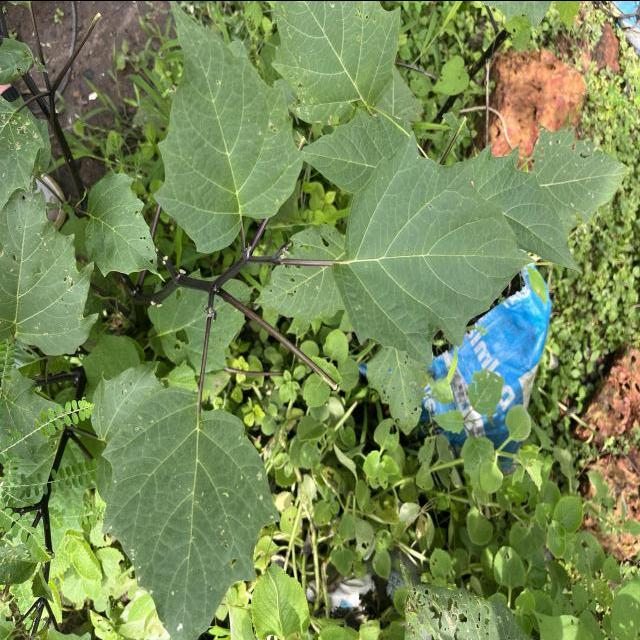Datura metal linn: (329, 123, 541, 368), (99, 382, 282, 636), (150, 0, 310, 257)
